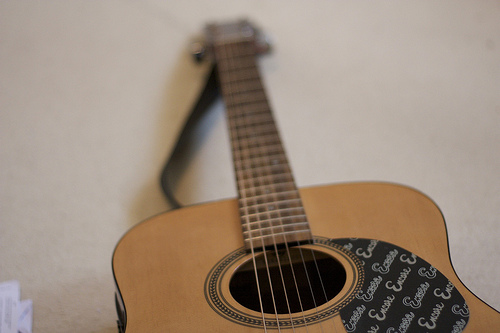guitar: (107, 17, 500, 333)
